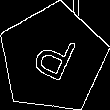P_SW: (26, 28, 80, 89)
